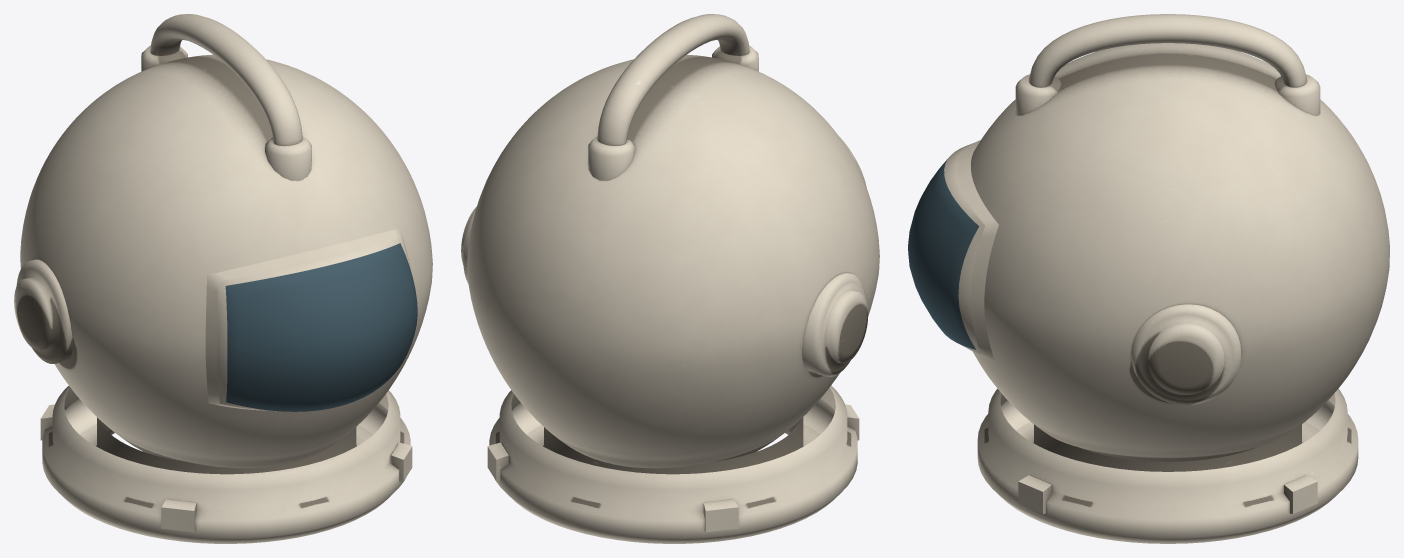
The model's file is SM_Helmet_B.glb.
3 views of the same model, side by side, from view 1: azimuth 30°, elevation 25°; view 2: azimuth 150°, elevation 25°; view 3: azimuth 270°, elevation 25° (orthographic). The views are drawn at different scales.
Visible parts, largest first — view 1: SM_Helmet_B; view 2: SM_Helmet_B; view 3: SM_Helmet_B.
Part boxes in pixels (x1,y1,x2,y2): SM_Helmet_B: (14, 14, 432, 543); SM_Helmet_B: (461, 14, 879, 543); SM_Helmet_B: (908, 14, 1389, 543).
Bounding box in the file's own units: 0.294 × 0.327 × 0.3165.
2 materials, 1 textured.
